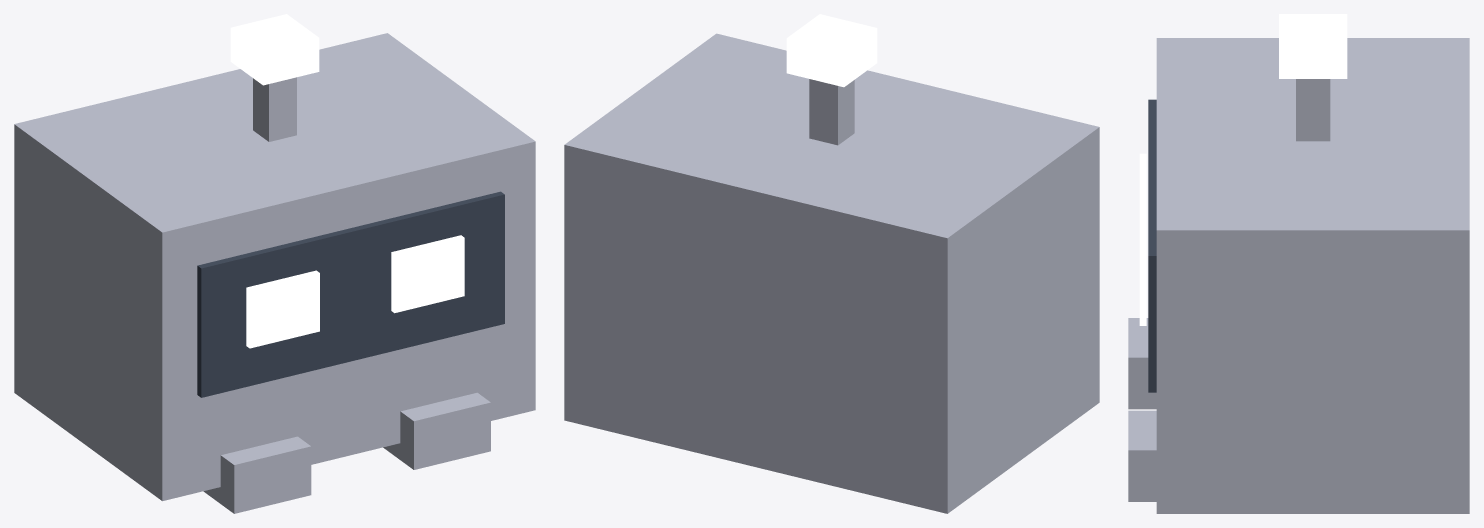
3 views of the same model, side by side, from view 1: azimuth 30°, elevation 25°; view 2: azimuth 150°, elevation 25°; view 3: azimuth 270°, elevation 25° (orthographic). The views are drawn at different scales.
Visible parts, largest first — view 1: CubeBot_Head; view 2: CubeBot_Head; view 3: CubeBot_Head.
Boxes of the visible parts, <box> form: CubeBot_Head: <box>14,14,535,513</box>; CubeBot_Head: <box>564,14,1099,513</box>; CubeBot_Head: <box>1128,14,1469,513</box>.
Bounding box in the file's own units: 1.6 × 1.58 × 1.2.
